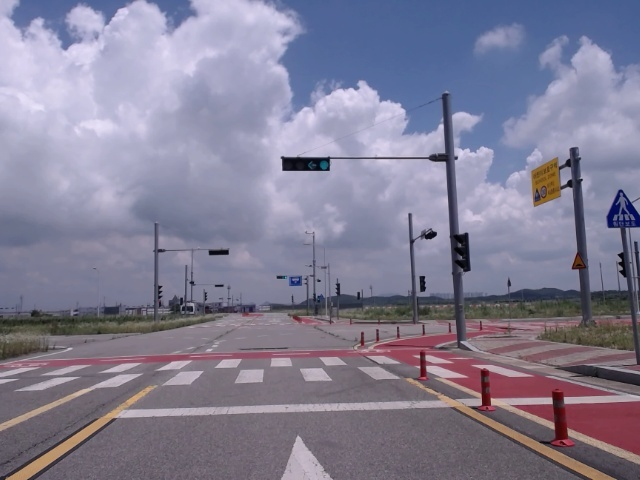all_green_4: (280, 157, 329, 170)
